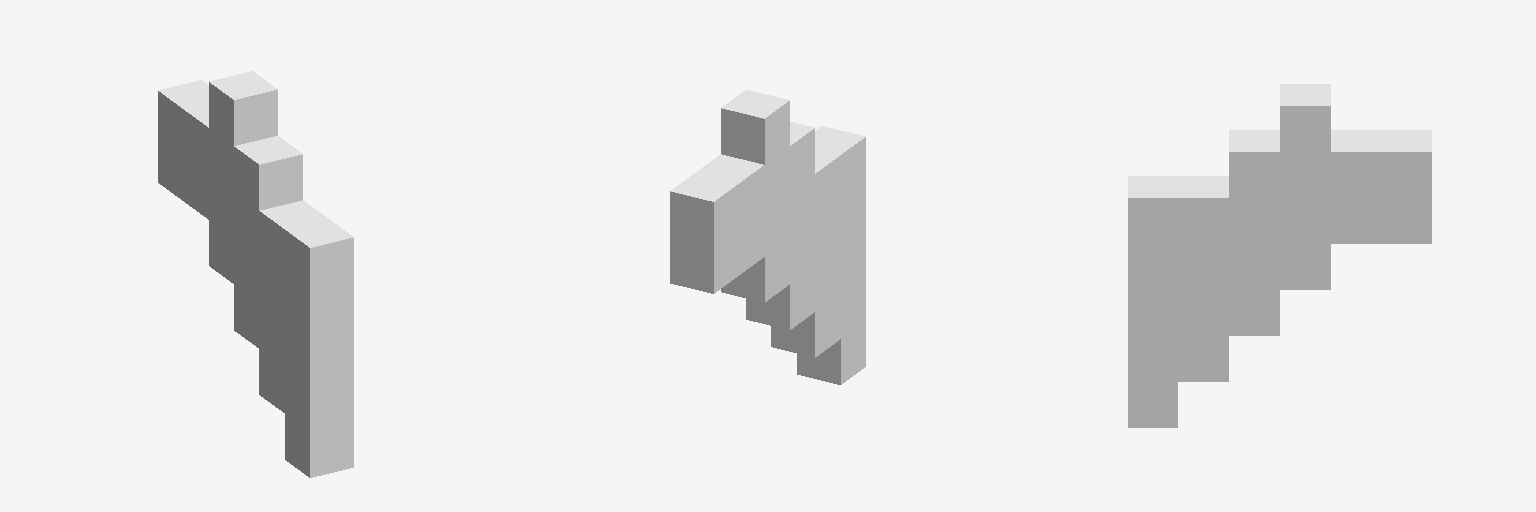
File: YellowHouseParts-7.obj
3 views of the same model, side by side, from view 1: azimuth 30°, elevation 25°; view 2: azimuth 150°, elevation 25°; view 3: azimuth 270°, elevation 25° (orthographic).
Visible parts, largest first — view 1: object 1; view 2: object 1; view 3: object 1.
Part boxes in pixels (bbox=[...]): object 1: bbox=[158, 71, 353, 477]; object 1: bbox=[670, 90, 865, 384]; object 1: bbox=[1128, 84, 1431, 427].
Size of the model in its own units: 0.1 by 0.7 by 0.6.